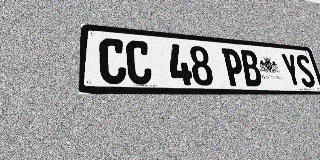4: (167, 43, 193, 85)
8: (188, 45, 214, 86)
B: (239, 50, 263, 87)
C: (99, 38, 127, 84), (126, 40, 153, 85)
P: (221, 48, 246, 86)
S: (294, 54, 317, 87)
Y: (280, 53, 303, 87)
